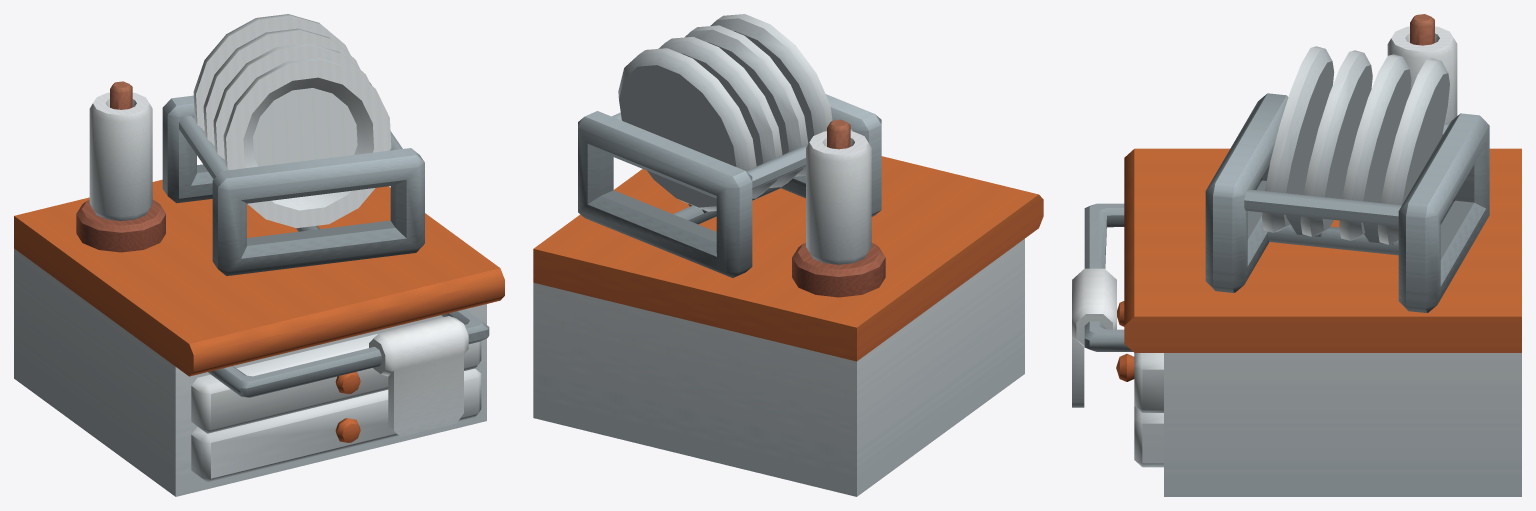
File: kitchencounter-straight-a-decorated.glb
The picture shows the model from 3 angles, left to right: view 1: azimuth 30°, elevation 25°; view 2: azimuth 150°, elevation 25°; view 3: azimuth 270°, elevation 25°; orthographic projection. The views are drawn at different scales.
Visible parts, largest first — view 1: kitchencounter_straight_A_decorated; view 2: kitchencounter_straight_A_decorated; view 3: kitchencounter_straight_A_decorated.
Boxes of the visible parts, left/top/right/bottom form: kitchencounter_straight_A_decorated: left=14, top=14, right=504, bottom=496; kitchencounter_straight_A_decorated: left=533, top=14, right=1043, bottom=496; kitchencounter_straight_A_decorated: left=1072, top=14, right=1521, bottom=496.
Size of the model in its own units: 2.01 by 2.1 by 2.26.
1 material, 1 textured.
